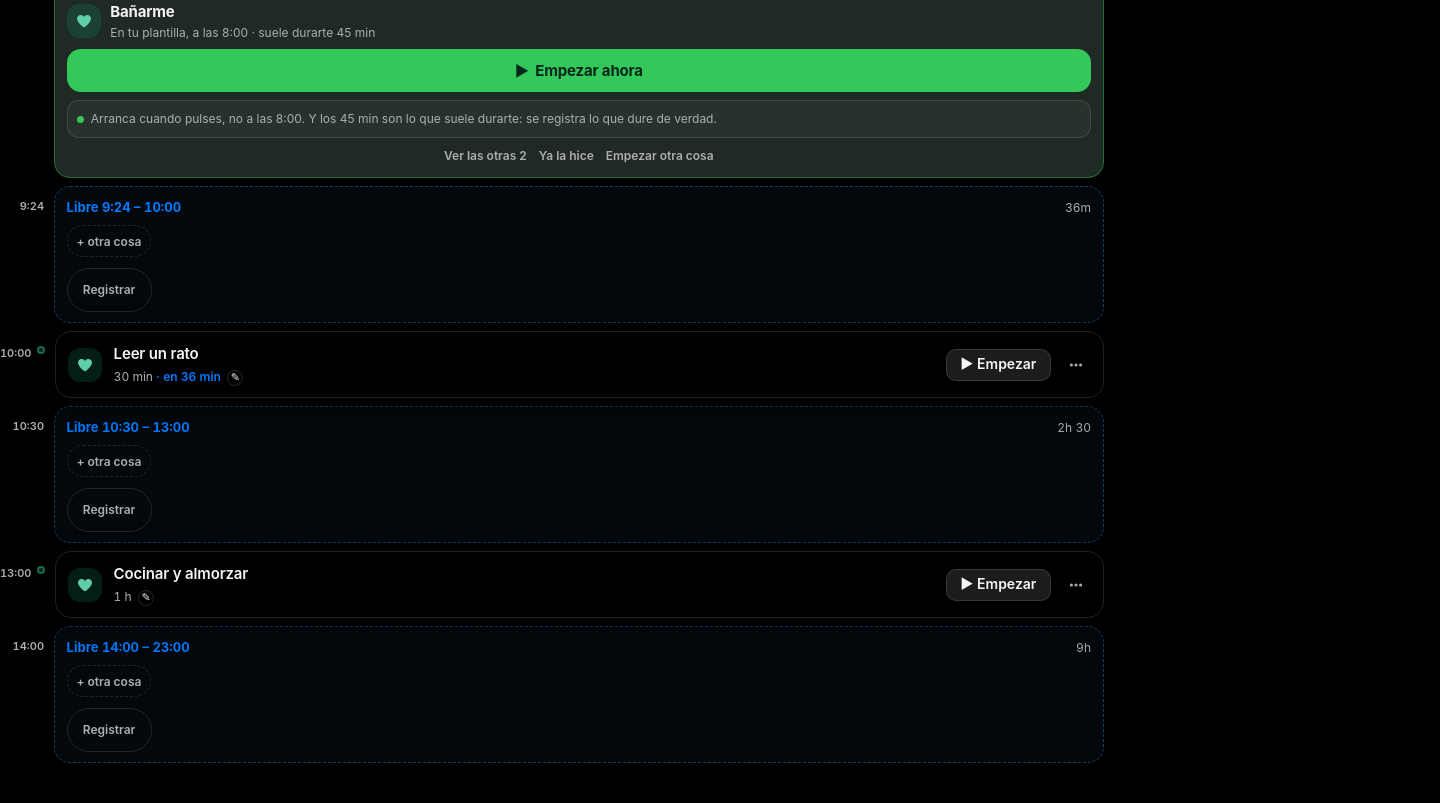
Test: VidaHoyPage — poner algo en un hueco (tajada 3) › criterio 24 — «+ otra cosa» abre la hoja con el subtítulo del hueco
(page scrolled)
Step 1. Click the button with aria-label "Poner otra cosa a las 10:30" → coordinates (109, 461), box [67, 445, 151, 477]
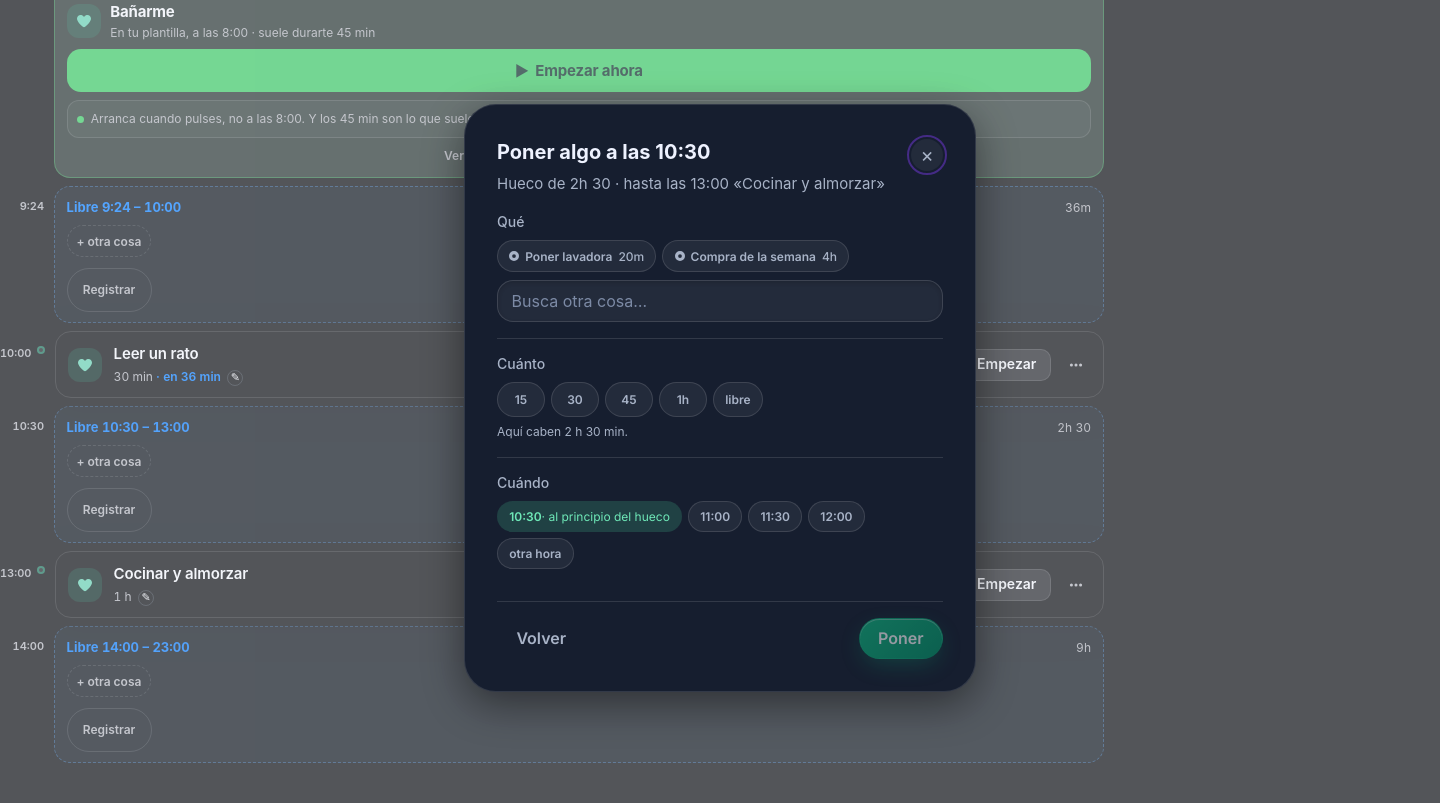
Expected: the heading "Poner algo a las 10:30" is shown, [497, 140, 710, 164]
Expected: the text "Hueco de 2h 30 · hasta las 13:00 «Cocinar y almorzar»" is shown, [497, 173, 903, 195]
